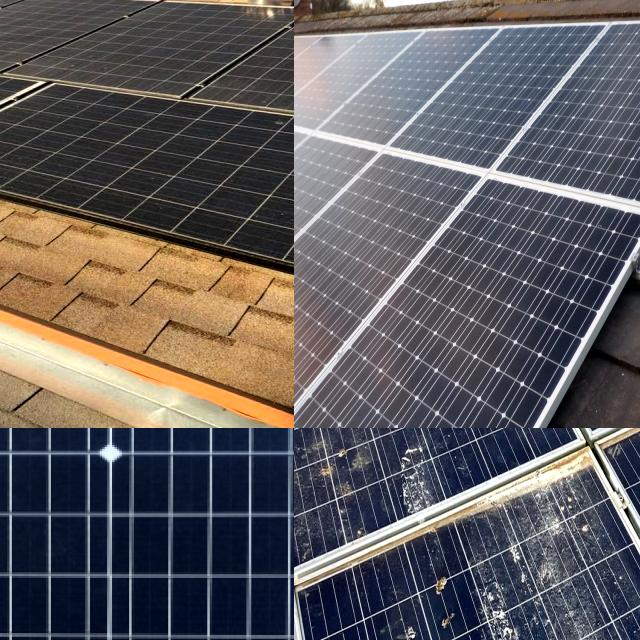bird: (543, 486, 594, 594), (322, 428, 406, 489), (468, 567, 529, 640), (417, 553, 462, 640), (311, 428, 349, 519), (396, 434, 434, 517), (541, 428, 580, 487), (500, 428, 553, 471), (424, 428, 483, 466), (385, 428, 434, 466), (600, 428, 640, 470)
crack: (294, 209, 640, 428), (0, 428, 294, 640), (294, 143, 490, 415), (478, 19, 640, 222)
